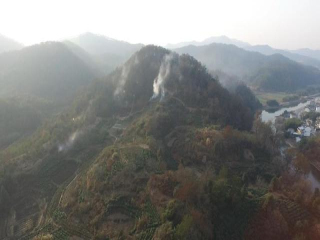smoke: (147, 51, 180, 104)
